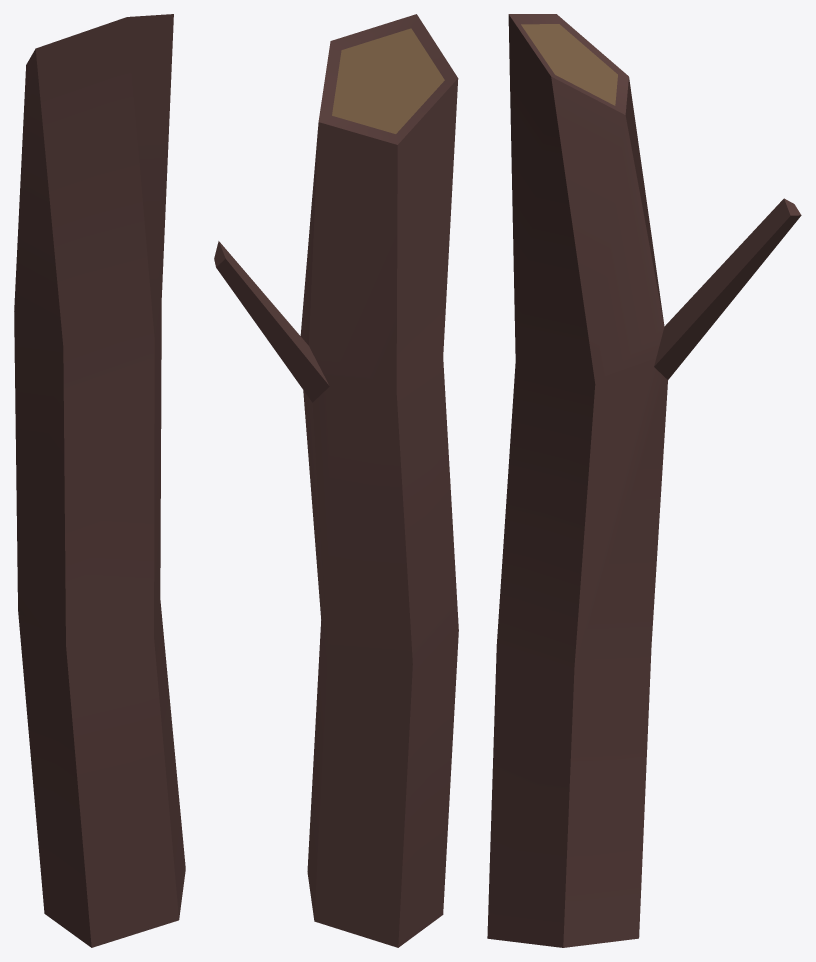
The model's file is stick.fbx.
3 views of the same model, side by side, from view 1: azimuth 30°, elevation 25°; view 2: azimuth 150°, elevation 25°; view 3: azimuth 270°, elevation 25° (orthographic). The views are drawn at different scales.
Parts seen in each view (by area): view 1: weed1; view 2: weed1; view 3: weed1.
Part boxes in pixels (x1=…): weed1: x1=14, y1=14, x2=185, y2=947; weed1: x1=214, y1=14, x2=458, y2=947; weed1: x1=487, y1=14, x2=801, y2=947.
Bounding box in the file's own units: 0.098 × 0.5652 × 0.174.
